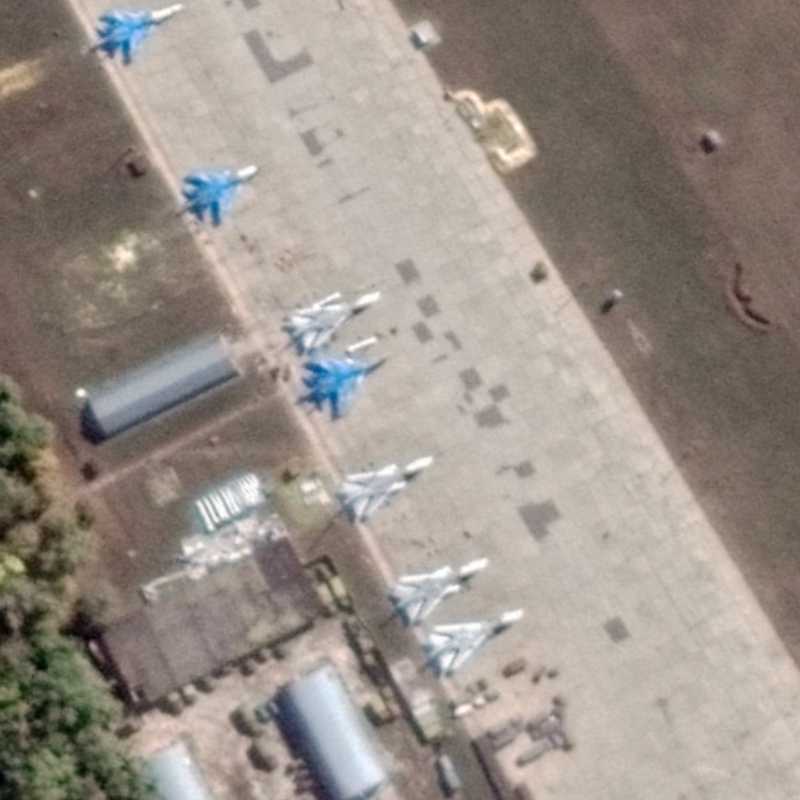A19: (300, 351, 391, 421), (93, 2, 185, 63), (180, 163, 261, 227)
A20: (390, 555, 492, 624), (339, 453, 436, 520), (427, 607, 525, 673), (287, 289, 384, 351)
